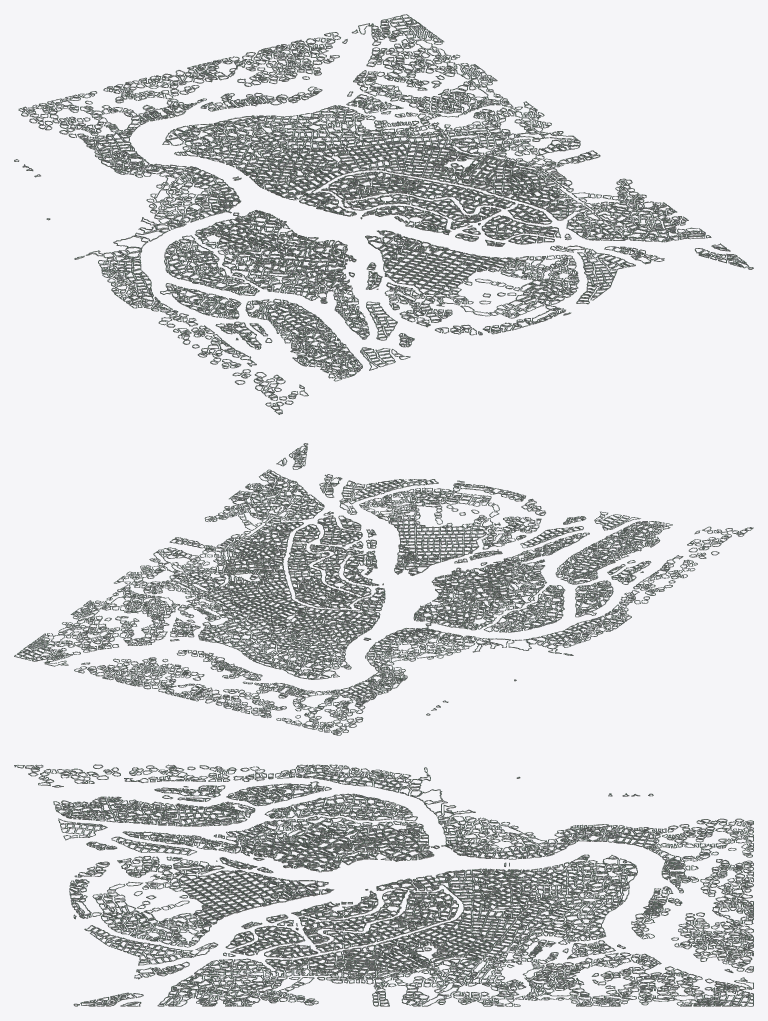
File: far.glb
3 renders of one model, top to bottom at view 1: azimuth 30°, elevation 25°; view 2: azimuth 150°, elevation 25°; view 3: azimuth 270°, elevation 25°, orthographic. The views are drawn at different scales.
Bounding box in the file's own units: 8530 × 23.09 × 11052.
